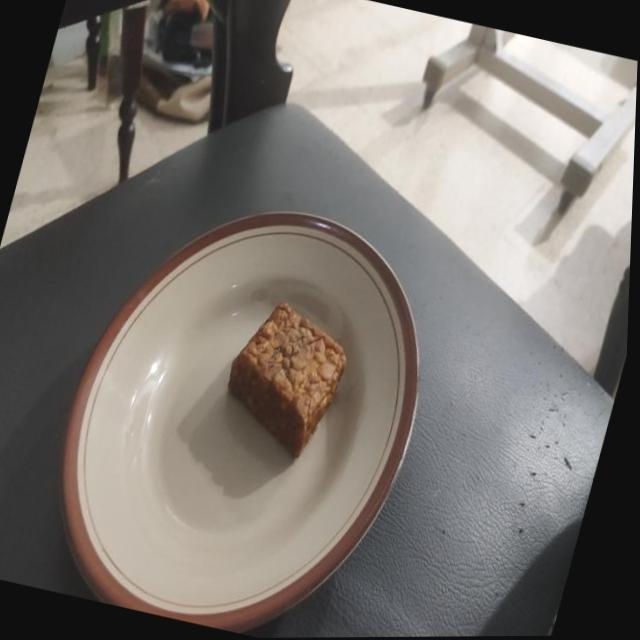tempe_goreng: (228, 303, 346, 457)
